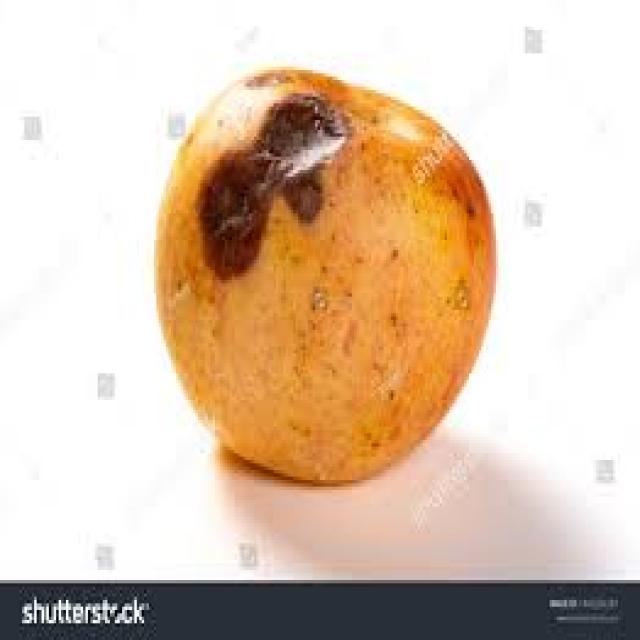overripe: (151, 57, 502, 489)
